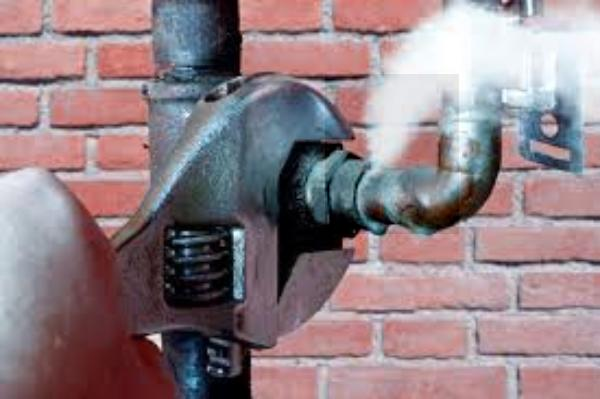gas: (325, 74, 459, 234)
